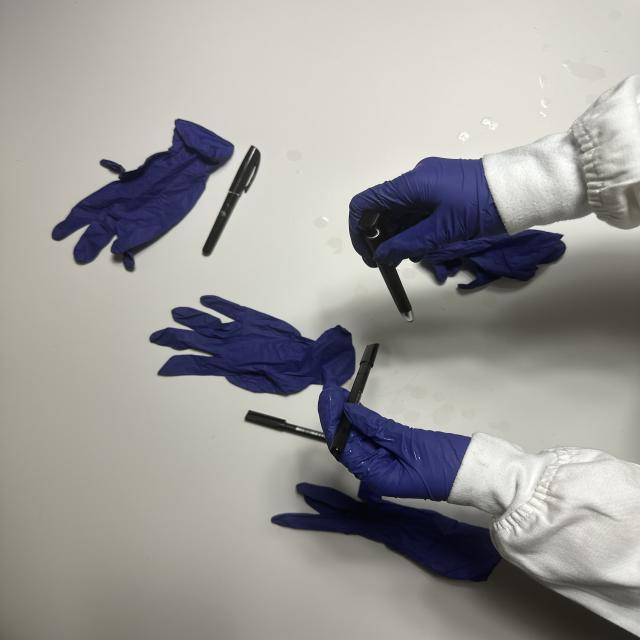gloves_contaminated: (318, 384, 470, 501), (349, 158, 507, 266)
